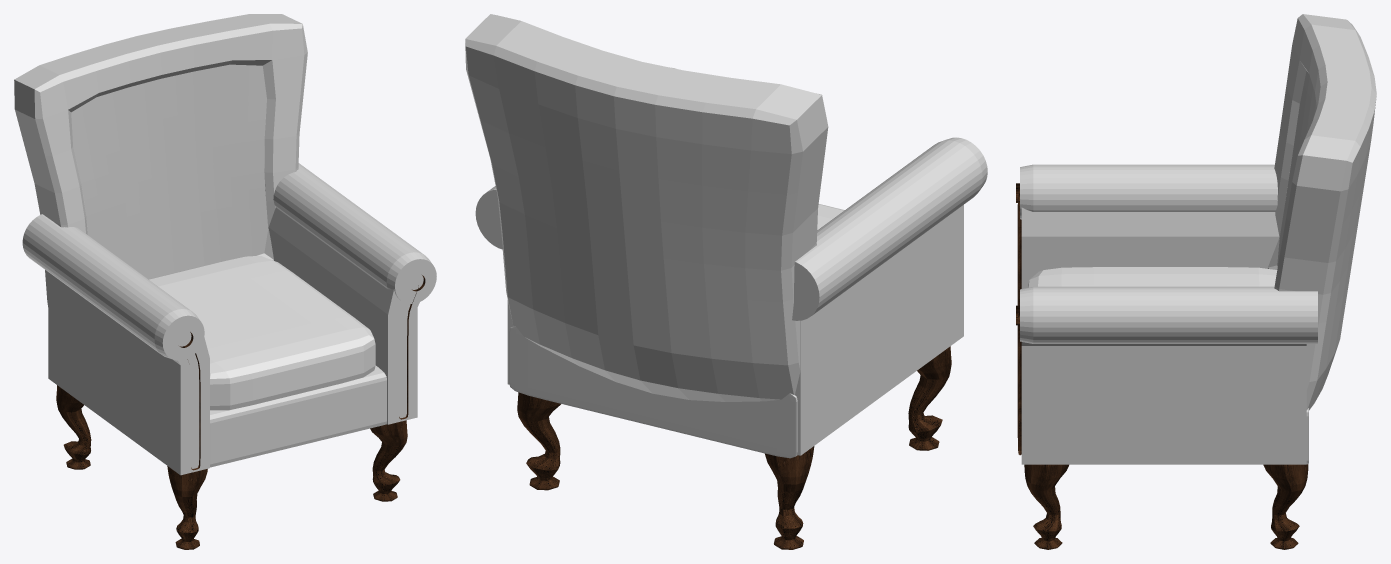
Rendered from 3ms-chair1.fbx.
3 renders of one model, left to right at view 1: azimuth 30°, elevation 25°; view 2: azimuth 150°, elevation 25°; view 3: azimuth 270°, elevation 25°, orthographic. The views are drawn at different scales.
Visible parts, largest first — view 1: SofaInnen, armlehneUnten, SofaHinten, Kissen, armlehneOben, Boden, Beine, armlehneVorne; view 2: SofaHinten, armlehneUnten, armlehneOben, Boden, Beine; view 3: armlehneUnten, armlehneOben, SofaHinten, Kissen, Beine, SofaInnen, armlehneVorne.
Boxes of the visible parts, bbox=[...] form: SofaInnen: bbox=[71, 64, 268, 279]; armlehneUnten: bbox=[48, 207, 419, 475]; SofaHinten: bbox=[14, 14, 307, 306]; Kissen: bbox=[148, 256, 375, 410]; armlehneOben: bbox=[22, 163, 436, 360]; Boden: bbox=[210, 365, 386, 467]; Beine: bbox=[56, 385, 407, 549]; armlehneVorne: bbox=[187, 285, 418, 470]; SofaHinten: bbox=[465, 14, 828, 401]; armlehneUnten: bbox=[507, 205, 963, 455]; armlehneOben: bbox=[475, 67, 987, 320]; Boden: bbox=[509, 326, 797, 458]; Beine: bbox=[517, 346, 951, 549]; armlehneUnten: bbox=[1021, 207, 1306, 464]; armlehneOben: bbox=[1020, 164, 1317, 343]; SofaHinten: bbox=[1268, 14, 1376, 410]; Kissen: bbox=[1028, 267, 1277, 287]; Beine: bbox=[1024, 464, 1308, 549]; SofaInnen: bbox=[1277, 71, 1316, 266]; armlehneVorne: bbox=[1017, 193, 1021, 455].
Size of the model in its own units: 87.8 by 116 by 91.39.
